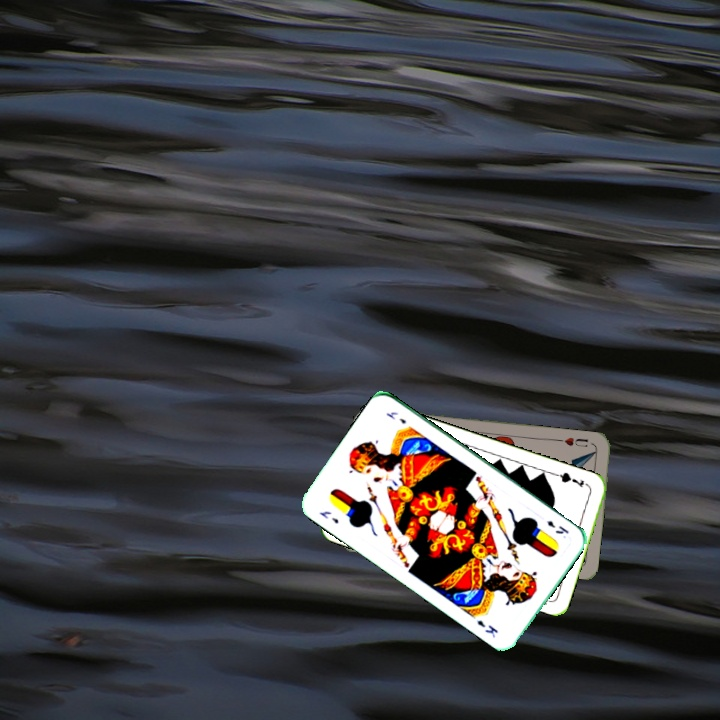EK: (543, 516, 572, 537), (316, 507, 341, 526)
G7: (552, 468, 592, 490)
HU: (555, 433, 590, 450)
